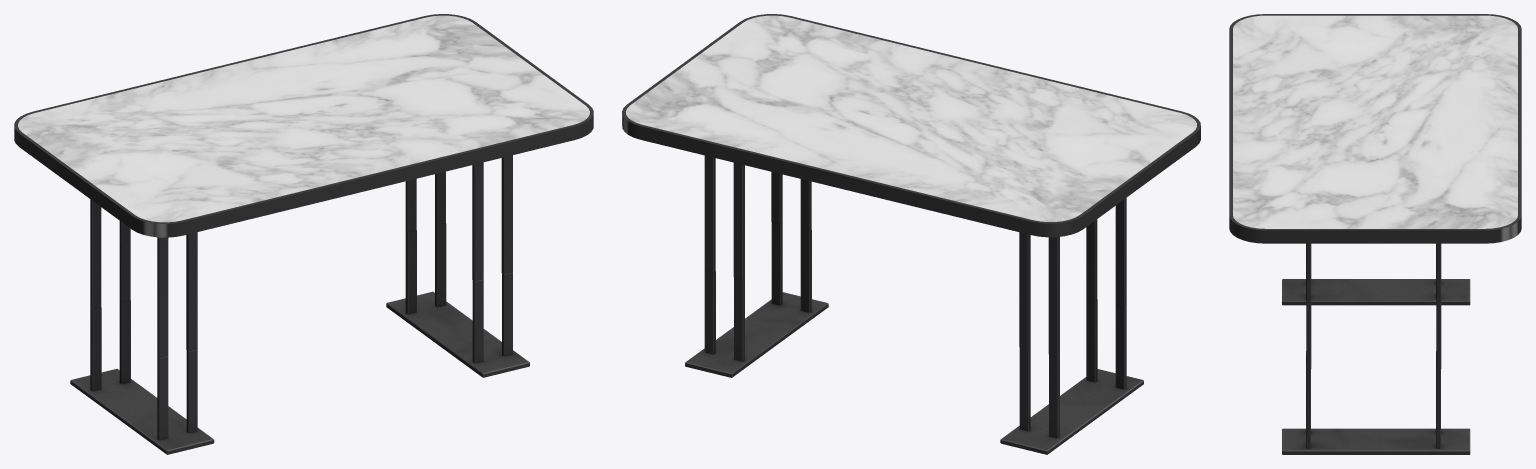
File: table_dining_table_square_a3491d64-e07b-5a5c-87f3-90d56da3a26e.glb
The picture shows the model from 3 angles, left to right: view 1: azimuth 30°, elevation 25°; view 2: azimuth 150°, elevation 25°; view 3: azimuth 270°, elevation 25°; orthographic projection. The views are drawn at different scales.
Visible parts, largest first — view 1: raw_model.obj; view 2: raw_model.obj; view 3: raw_model.obj.
Boxes of the visible parts, bbox=[...] form: raw_model.obj: bbox=[14, 14, 593, 454]; raw_model.obj: bbox=[622, 14, 1200, 454]; raw_model.obj: bbox=[1229, 14, 1521, 454].
Size of the model in its own units: 1.4 by 0.75 by 0.8.
Materials: 1 (1 with a texture image).
